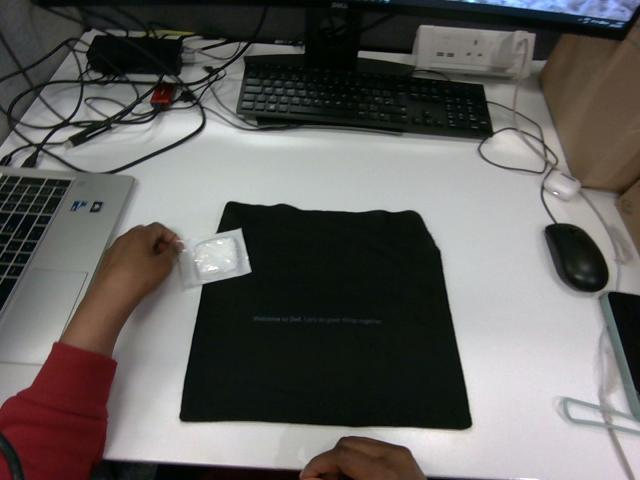gauze: (179, 229, 250, 287)
